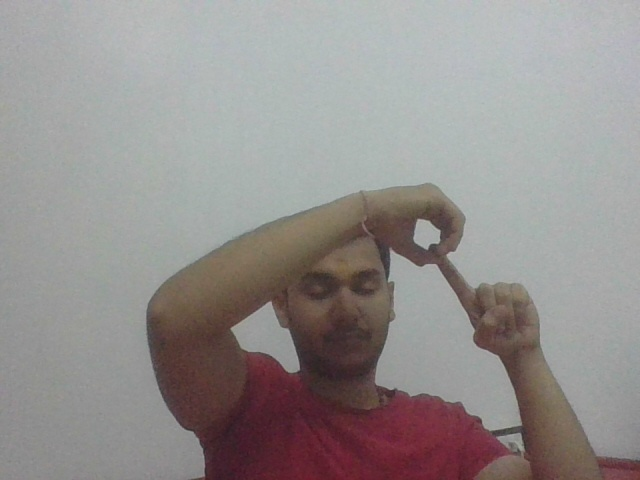Q: (398, 183, 538, 349)
